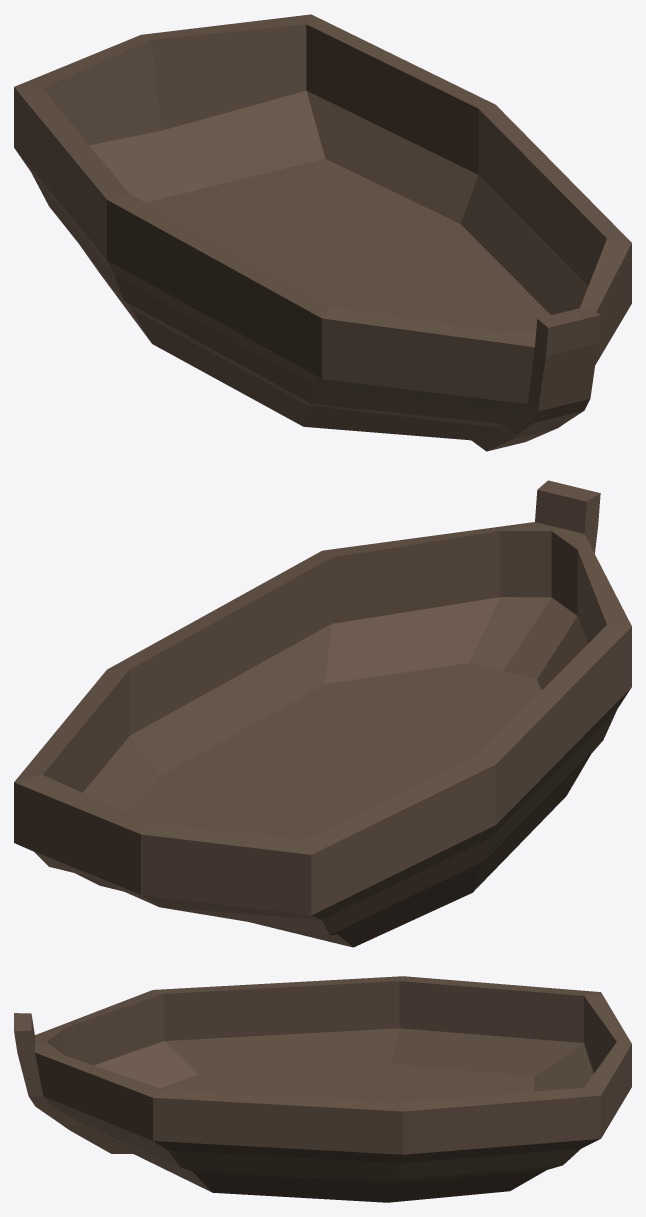
Rendered from boat.glb.
3 views of the same model, one above another, from view 1: azimuth 30°, elevation 25°; view 2: azimuth 150°, elevation 25°; view 3: azimuth 270°, elevation 25° (orthographic). The views are drawn at different scales.
Parts seen in each view (by area): view 1: prop_boat; view 2: prop_boat; view 3: prop_boat.
Boxes of the visible parts, x1,y1,x2,y2 form: prop_boat: (14, 14, 631, 451); prop_boat: (14, 480, 631, 947); prop_boat: (14, 976, 631, 1202).
Size of the model in its own units: 1.66 by 0.7137 by 3.2.
